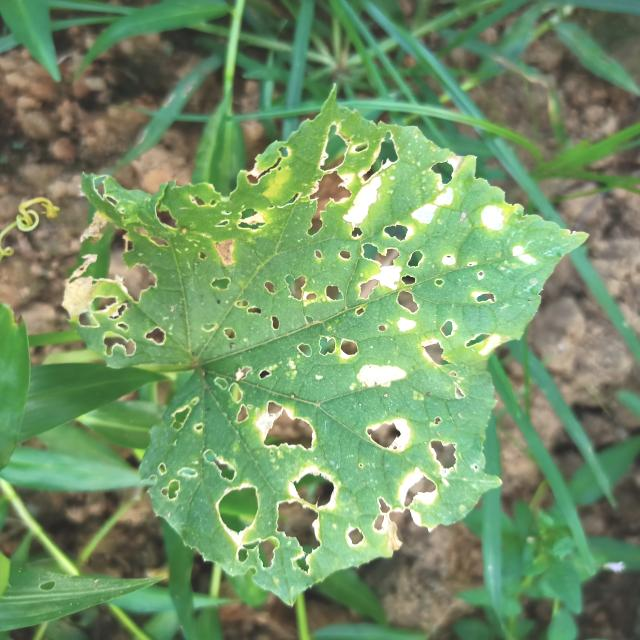disease_cucumber: (80, 123, 545, 567)
